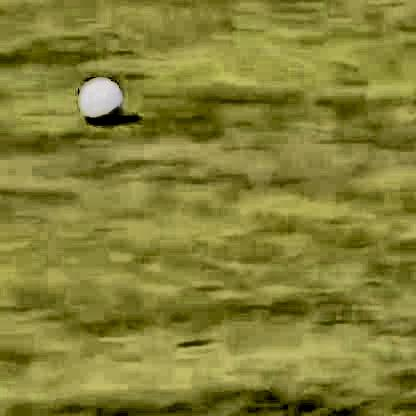golfball: (76, 74, 121, 122)
